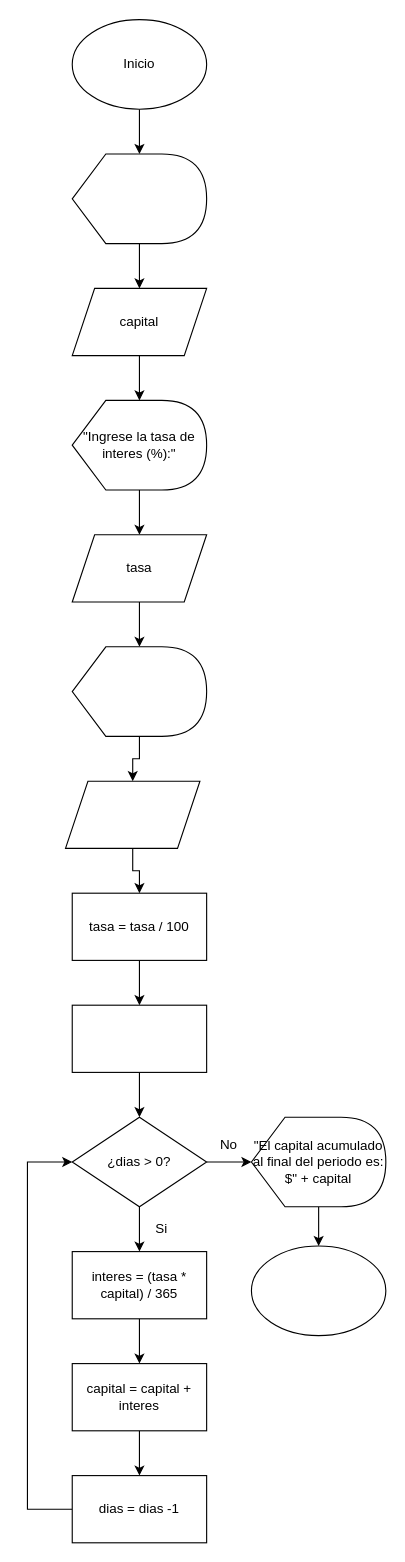
Some shapes in this 405 by 1562 pixel diagram are drawn without their labels. Each missing label, with the box of its shape:
"Ingrese el capital a depositar:": (71, 153, 207, 244)
"Ingrese la duracion del deposito en semanas:": (71, 646, 207, 736)
dias = semana * 7: (71, 1004, 207, 1072)
Fin: (250, 1245, 386, 1336)
semanas: (64, 780, 200, 848)
